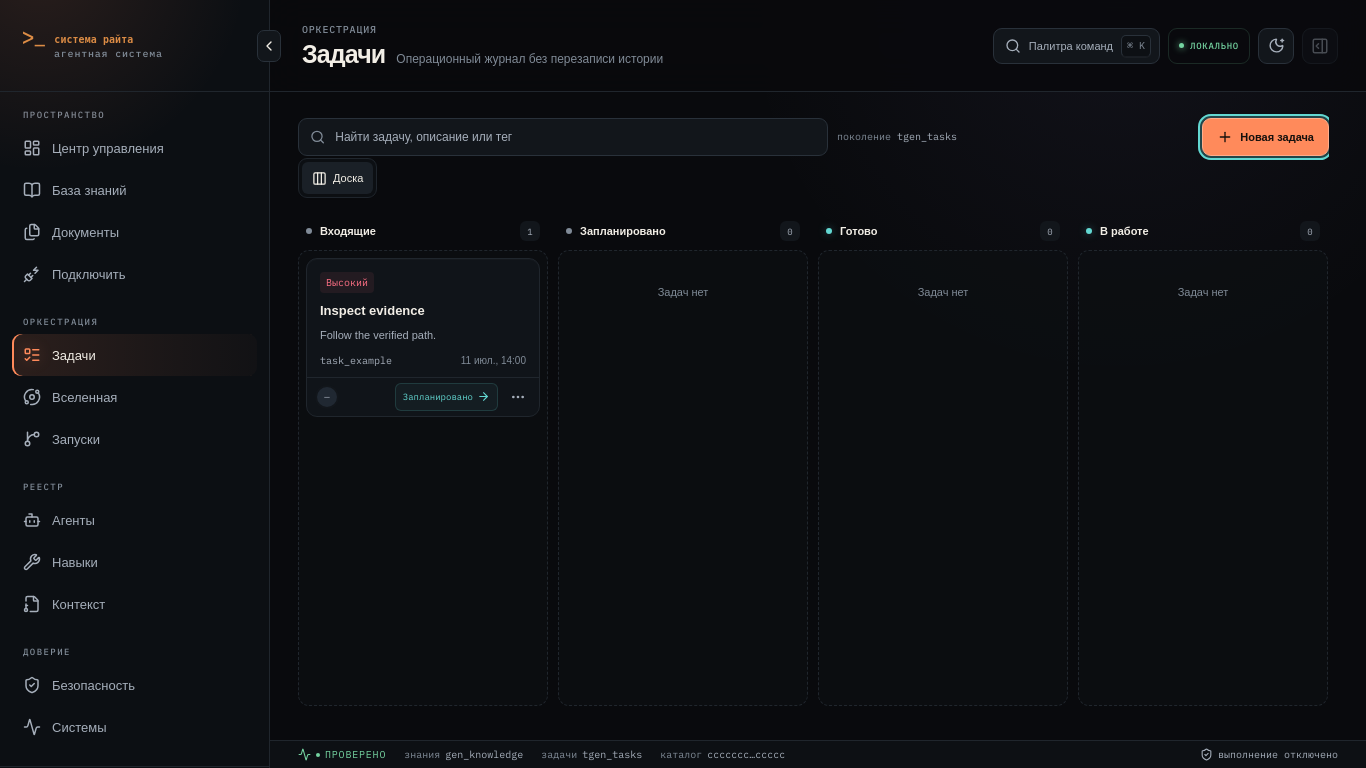
raytsystem control plane › opens task creation with an explicit canonical boundary
This screenshot has width=1366, height=768.
Expected: the heading "Задачи" is shown, left=302, top=42, right=385, bottom=67
Click the button "Новая задача": (1266, 137) left=1202, top=118, right=1329, bottom=156
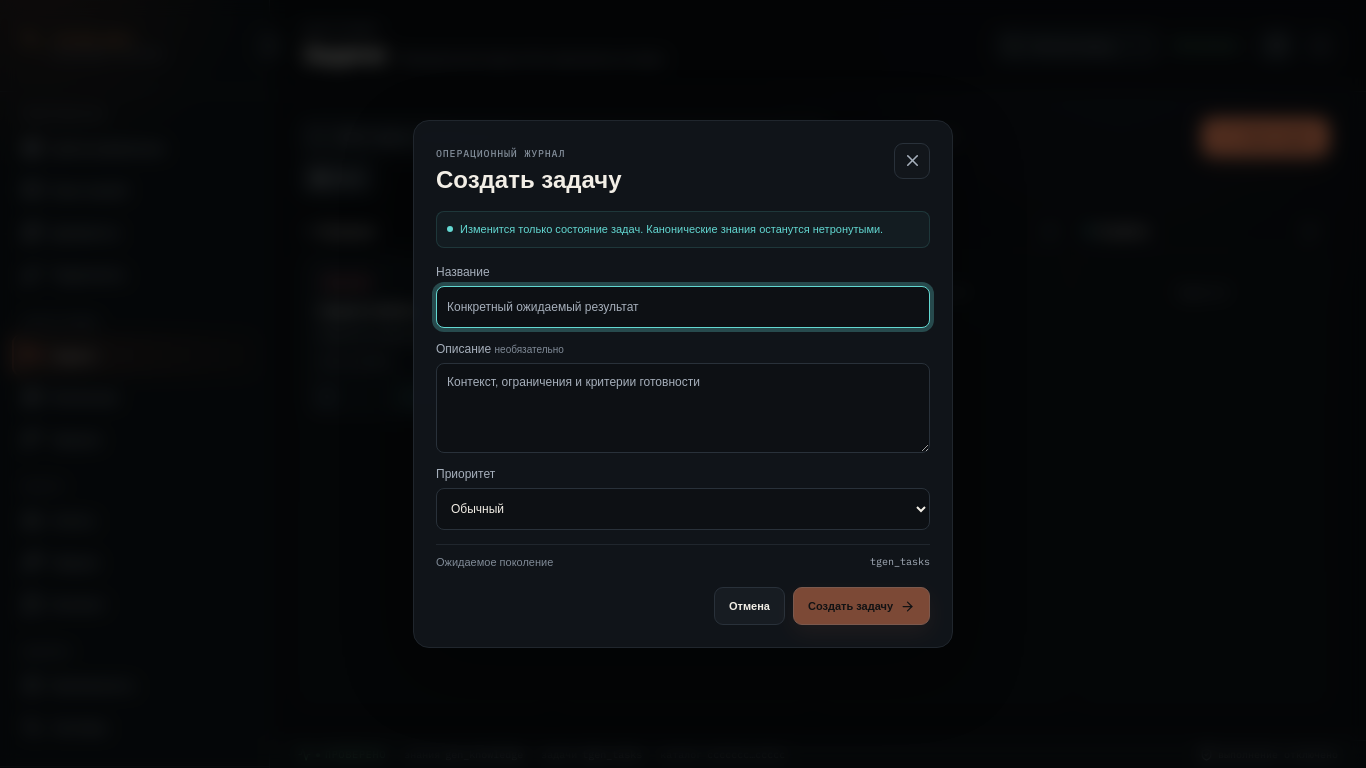
Now the dialog "Создать задачу" is shown, box left=413, top=120, right=953, bottom=648
Now the text "Канонические знания останутся нетронутыми" is shown, box left=460, top=222, right=883, bottom=234
Press Escape
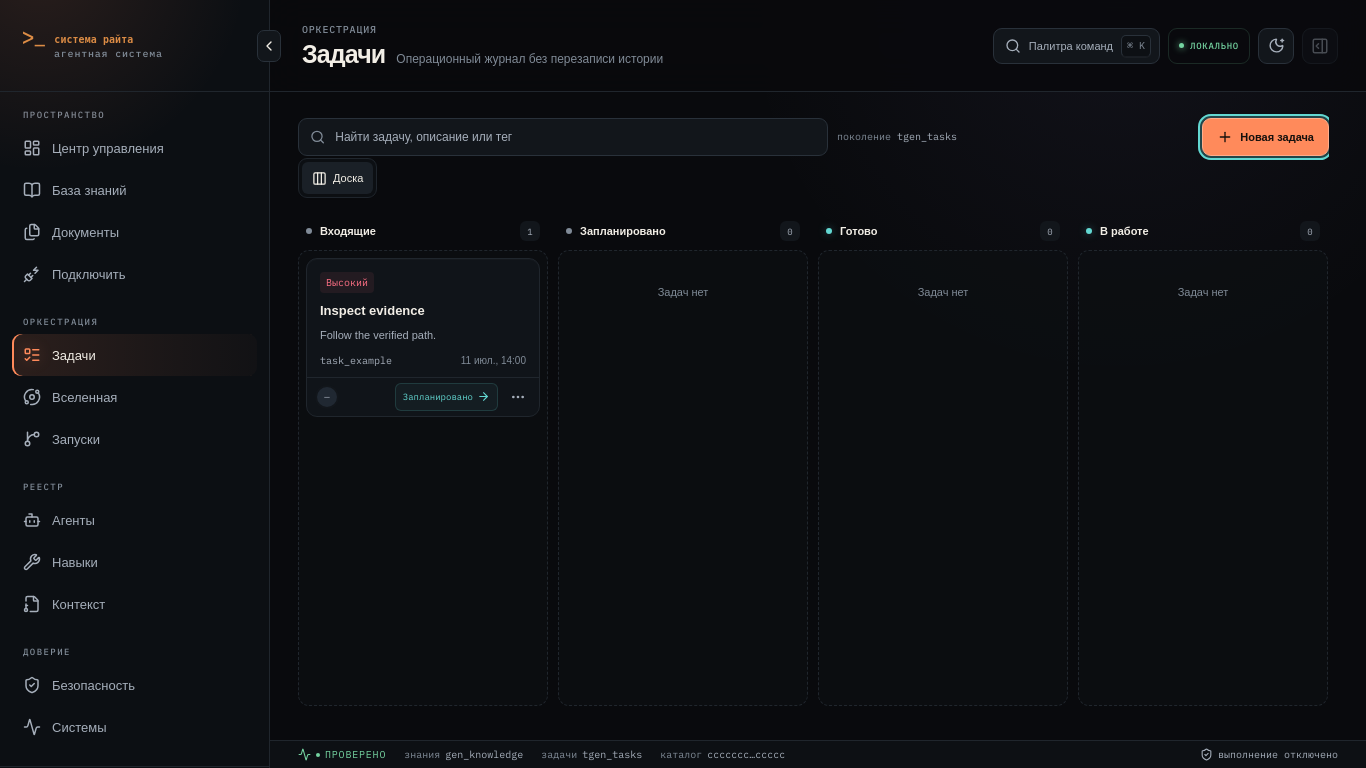
Now the heading "Создать задачу" is gone
